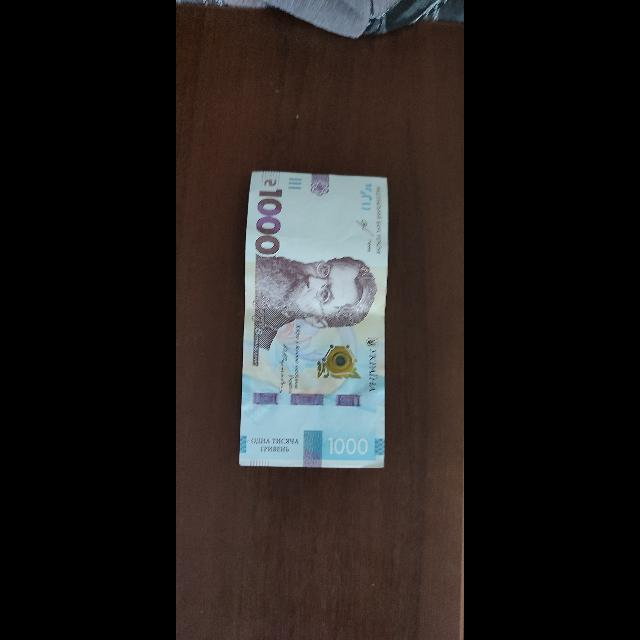1000uah: (236, 170, 387, 470)
